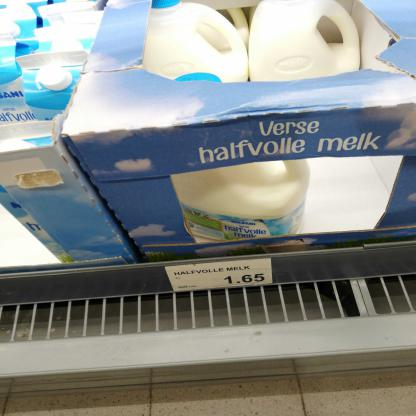prtg: (166, 259, 274, 292)
